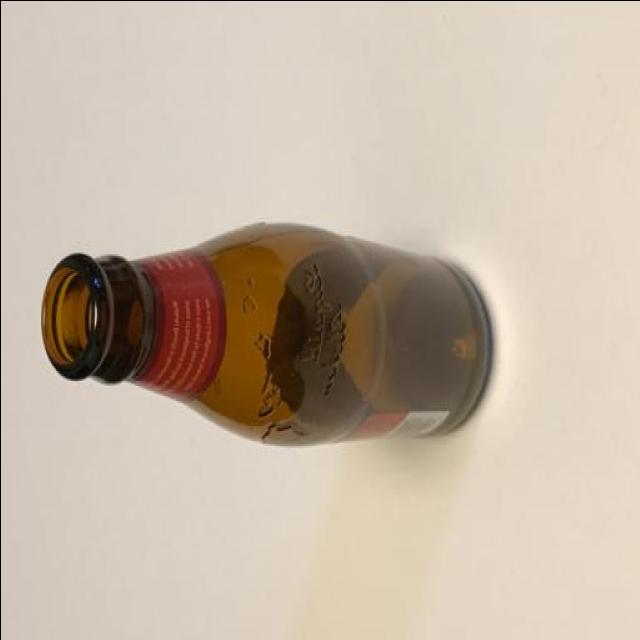glass: (34, 193, 528, 458)
